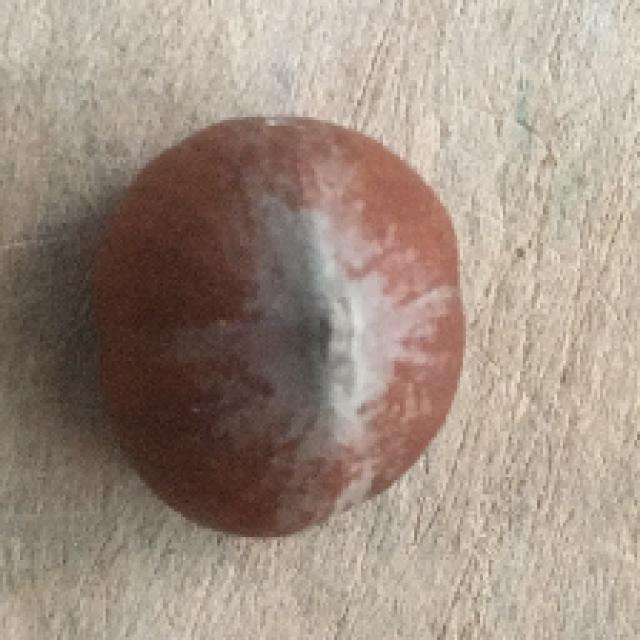QualityHazelnut: (93, 114, 470, 543)
